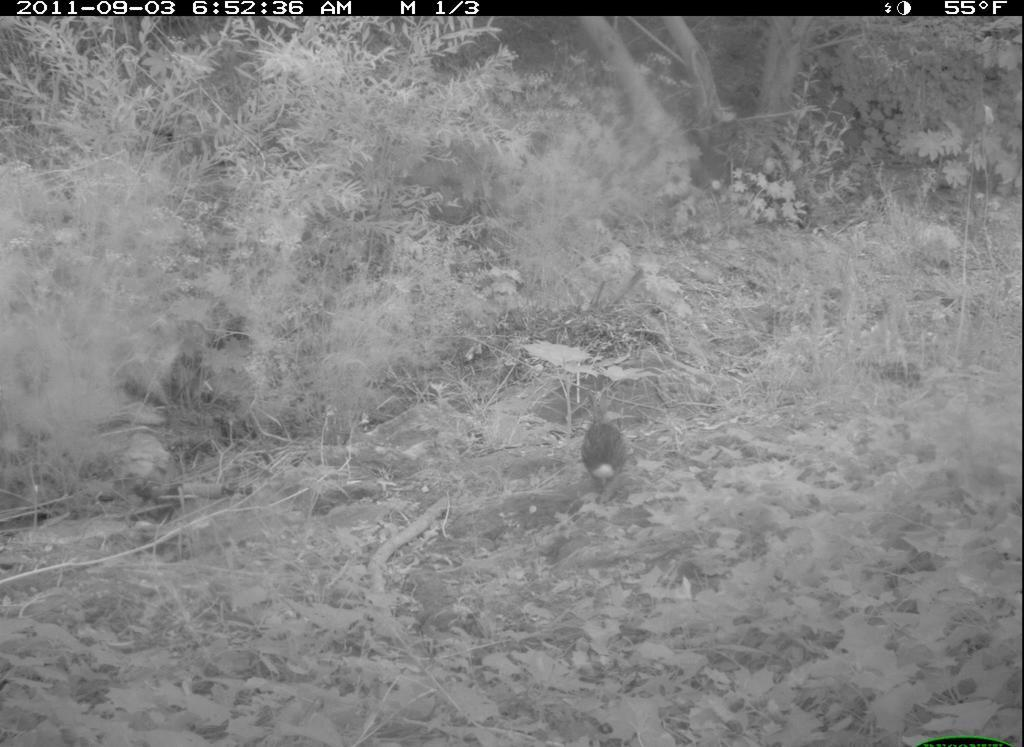rabbit: (579, 378, 633, 513)
